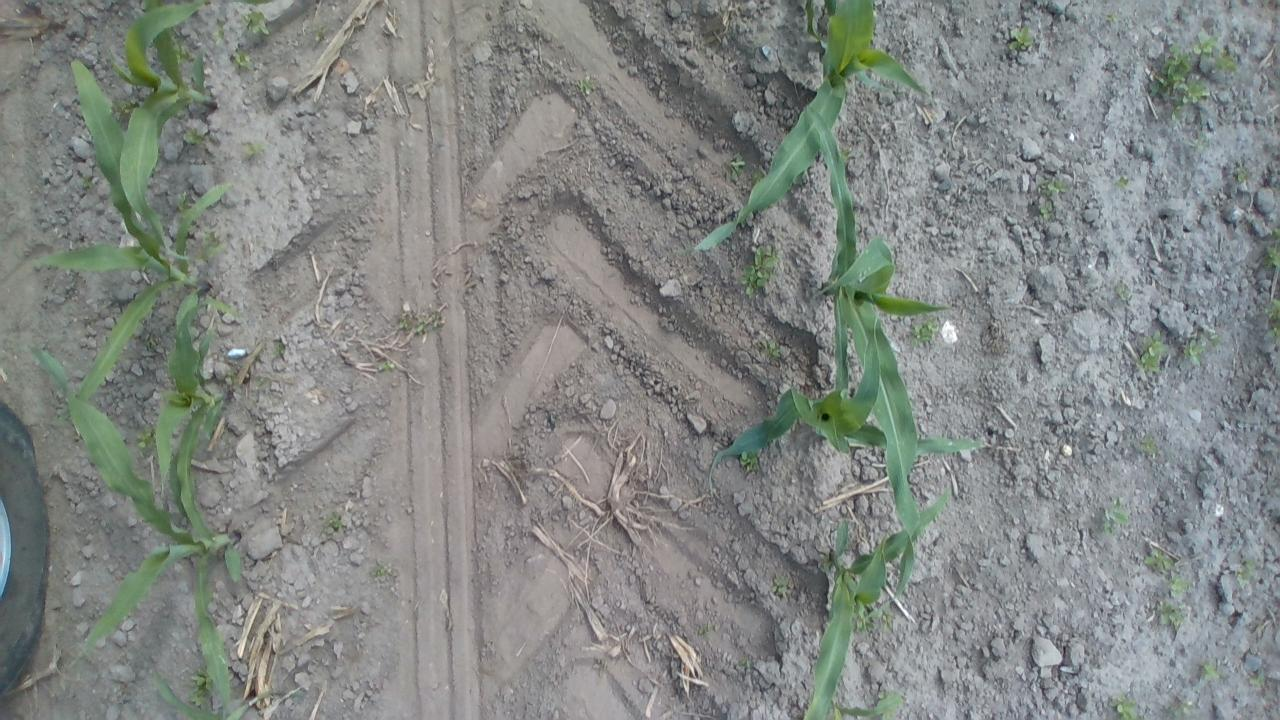Maize: (16, 341, 273, 720), (55, 61, 244, 424), (671, 1, 935, 260), (802, 101, 954, 546), (782, 491, 954, 720), (692, 382, 992, 505), (111, 0, 225, 265), (150, 288, 248, 514), (830, 693, 910, 720)
Weeds: (1144, 35, 1208, 129), (737, 243, 786, 296), (1134, 332, 1172, 375), (1098, 494, 1135, 538), (1033, 175, 1068, 220), (1152, 598, 1192, 636), (242, 8, 282, 42), (188, 662, 216, 710), (399, 308, 446, 336), (1139, 544, 1177, 578), (908, 318, 948, 350), (868, 602, 902, 638), (238, 134, 274, 168), (1185, 328, 1221, 360), (722, 150, 752, 188), (1106, 693, 1148, 720), (180, 124, 213, 157), (132, 420, 164, 454), (1004, 23, 1034, 59), (108, 86, 144, 116), (758, 338, 792, 368), (1135, 430, 1165, 461), (1198, 29, 1226, 61), (228, 46, 256, 78), (74, 171, 106, 199), (772, 570, 796, 606), (739, 443, 766, 474), (320, 507, 346, 539), (1235, 558, 1259, 592), (1213, 52, 1241, 81), (367, 558, 395, 586), (1263, 228, 1280, 272), (172, 188, 200, 214), (731, 650, 760, 675), (200, 231, 226, 258), (696, 620, 722, 646), (1168, 699, 1200, 720), (1267, 295, 1280, 345), (1166, 572, 1193, 596), (1108, 170, 1134, 194), (1200, 662, 1228, 684), (1109, 282, 1137, 304), (572, 71, 594, 99), (1231, 162, 1252, 188), (375, 356, 400, 377), (209, 18, 232, 40), (270, 334, 288, 362), (1102, 10, 1124, 30)
